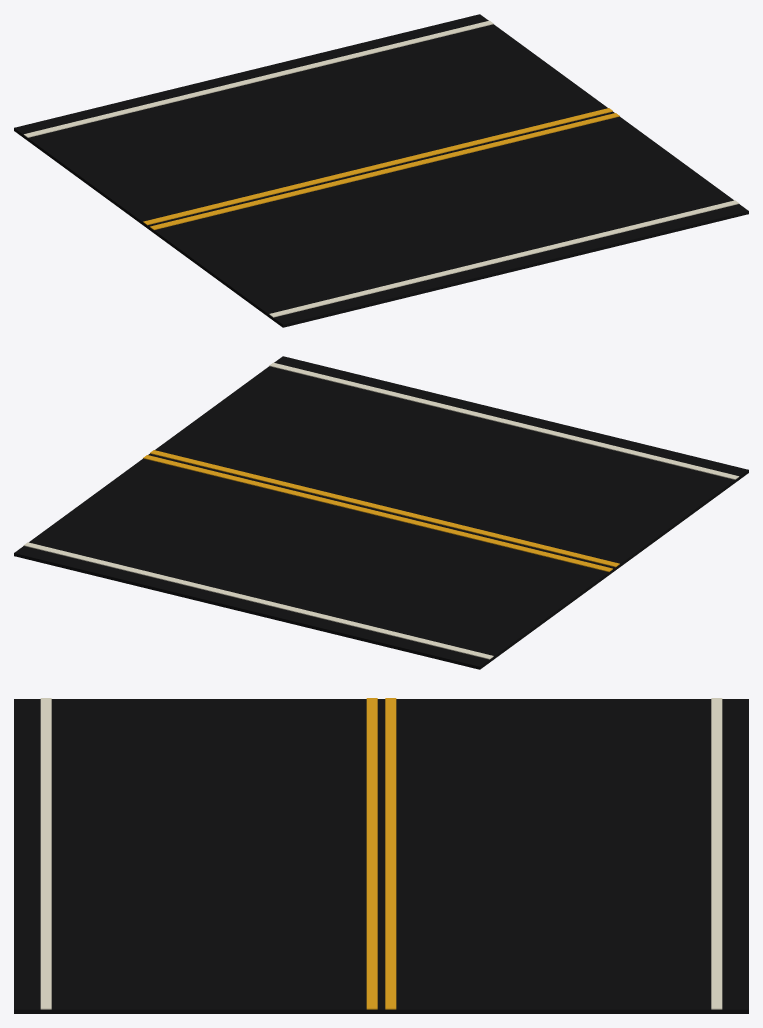
File: KIT_Road_Straight_8m.glb
3 renders of one model, top to bottom at view 1: azimuth 30°, elevation 25°; view 2: azimuth 150°, elevation 25°; view 3: azimuth 270°, elevation 25°, orthographic. The views are drawn at different scales.
Parts seen in each view (by area): view 1: KIT_Road_Straight_8m; view 2: KIT_Road_Straight_8m; view 3: KIT_Road_Straight_8m.
Boxes of the visible parts, box(x1,y1,x2,y2) form: KIT_Road_Straight_8m: box(14, 14, 748, 327); KIT_Road_Straight_8m: box(14, 356, 748, 669); KIT_Road_Straight_8m: box(14, 698, 748, 1013).
Bounding box in the file's own units: 8 × 0.062 × 8.
